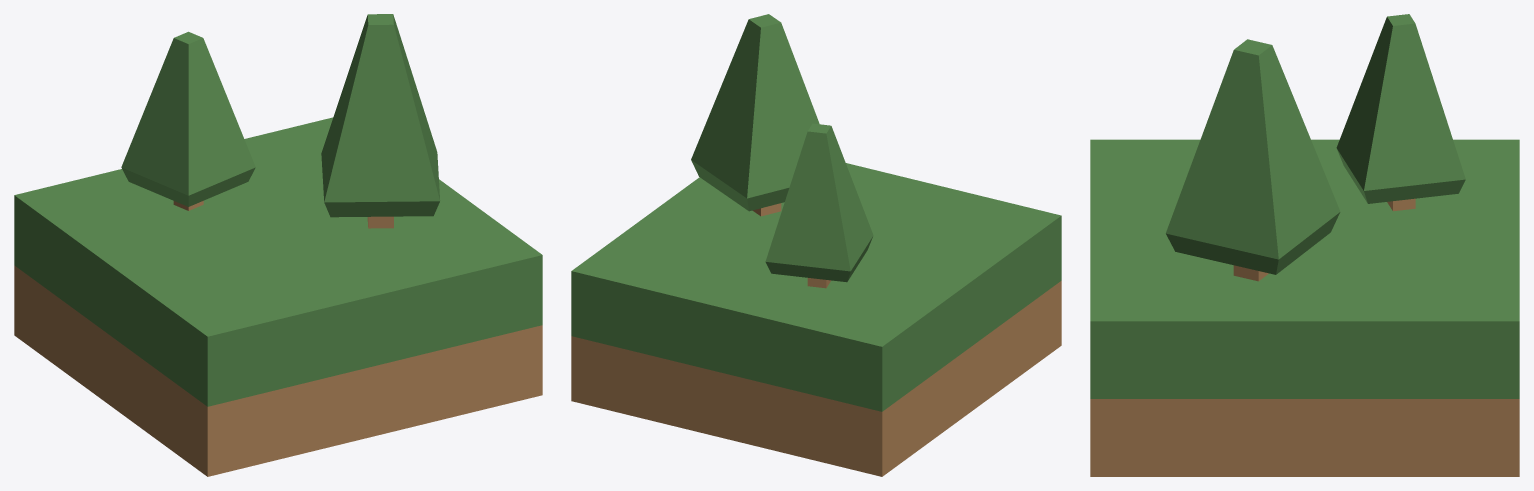
File: tile_065.obj
3 renders of one model, left to right at view 1: azimuth 30°, elevation 25°; view 2: azimuth 150°, elevation 25°; view 3: azimuth 270°, elevation 25°, orthographic. The views are drawn at different scales.
Parts seen in each view (by area): view 1: tile_065, Component#2; view 2: tile_065, Component#2; view 3: tile_065, Component#2.
Boxes of the visible parts, left/top/right/bottom form: tile_065: left=14, top=117, right=542, bottom=476; Component#2: left=121, top=14, right=440, bottom=228; tile_065: left=571, top=163, right=1061, bottom=476; Component#2: left=691, top=14, right=873, bottom=288; tile_065: left=1090, top=139, right=1519, bottom=476; Component#2: left=1165, top=14, right=1465, bottom=281.
Bounding box in the file's own units: 1 × 0.9802 × 1.
